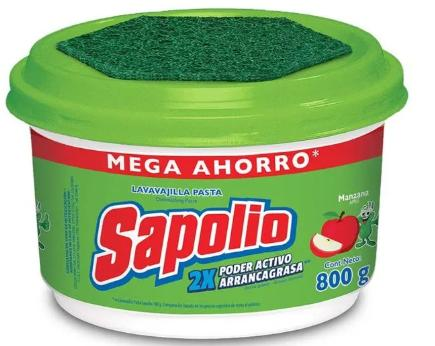brand: (85, 190, 300, 295)
net_weight: (312, 260, 374, 300)
product_name: (129, 183, 225, 197)
